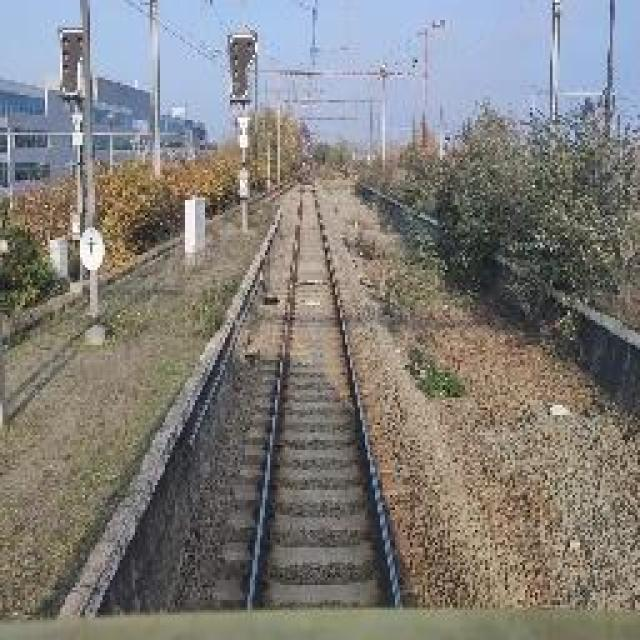rail: (197, 166, 442, 612)
